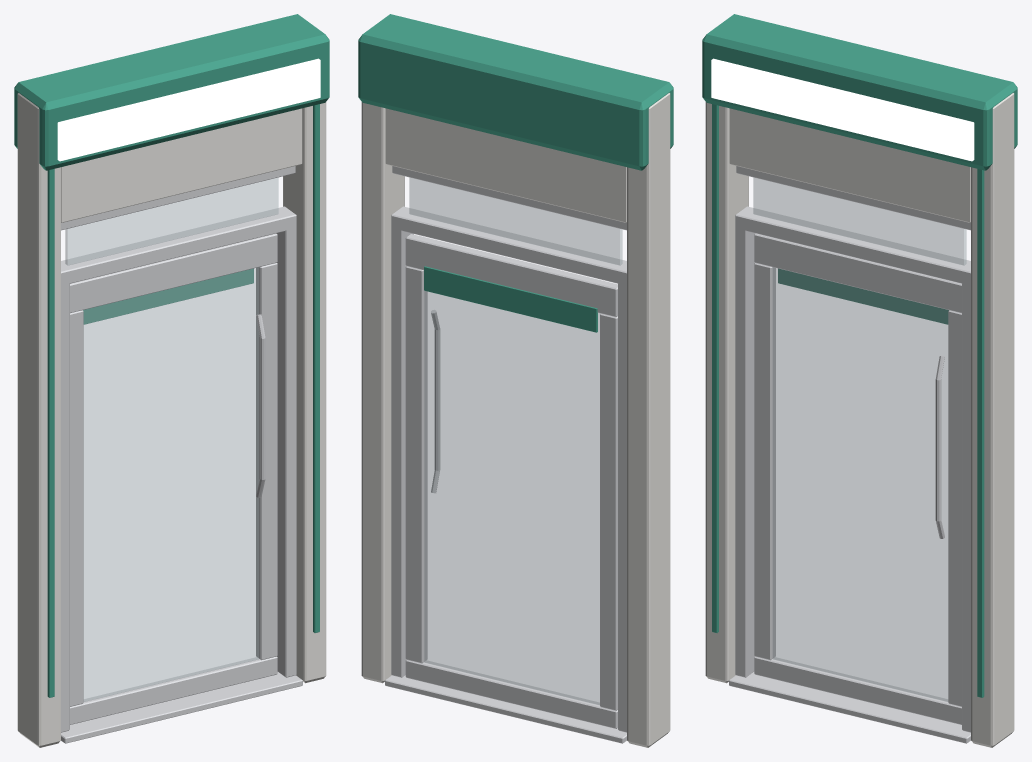
Rendered from petrol-station-and-forecourt-shop-shop-facade-bay-door-7dcc2735__33959.glb.
The picture shows the model from 3 angles, left to right: view 1: azimuth 30°, elevation 25°; view 2: azimuth 150°, elevation 25°; view 3: azimuth 330°, elevation 25°; orthographic projection.
Parts seen in each view (by area): view 1: shop-facade-bay-door, shop-door/glass, shop-door/metal, shop-door/accent; view 2: shop-facade-bay-door, shop-door/glass, shop-door/metal, shop-door/accent; view 3: shop-facade-bay-door, shop-door/glass, shop-door/metal, shop-door/accent.
Boxes of the visible parts, <box> form: shop-facade-bay-door: <box>14,14,329,747</box>; shop-door/glass: <box>83,267,258,701</box>; shop-door/metal: <box>70,233,277,724</box>; shop-door/accent: <box>83,268,253,324</box>; shop-facade-bay-door: <box>358,14,673,747</box>; shop-door/glass: <box>424,291,600,704</box>; shop-door/metal: <box>405,234,617,728</box>; shop-door/accent: <box>424,266,597,332</box>; shop-facade-bay-door: <box>702,14,1017,747</box>; shop-door/glass: <box>773,267,948,701</box>; shop-door/metal: <box>754,233,961,724</box>; shop-door/accent: <box>778,268,948,324</box>.
Bounding box in the file's own units: 1.5 × 3.22 × 0.31.
